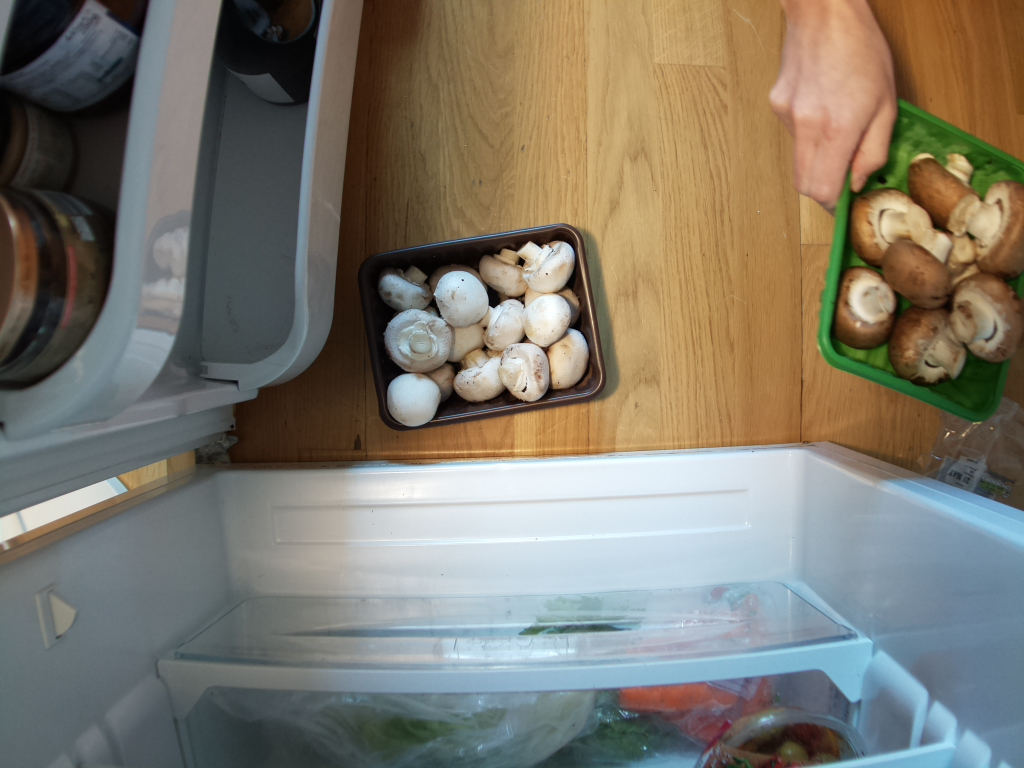mushrooms: (811, 102, 1024, 425), (352, 228, 618, 437)
